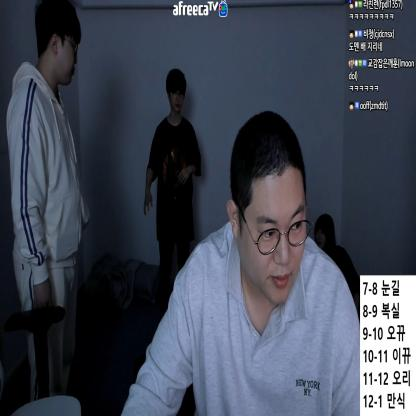streamer: (119, 108, 360, 416), (6, 0, 92, 389), (143, 63, 202, 318), (312, 214, 360, 322)
